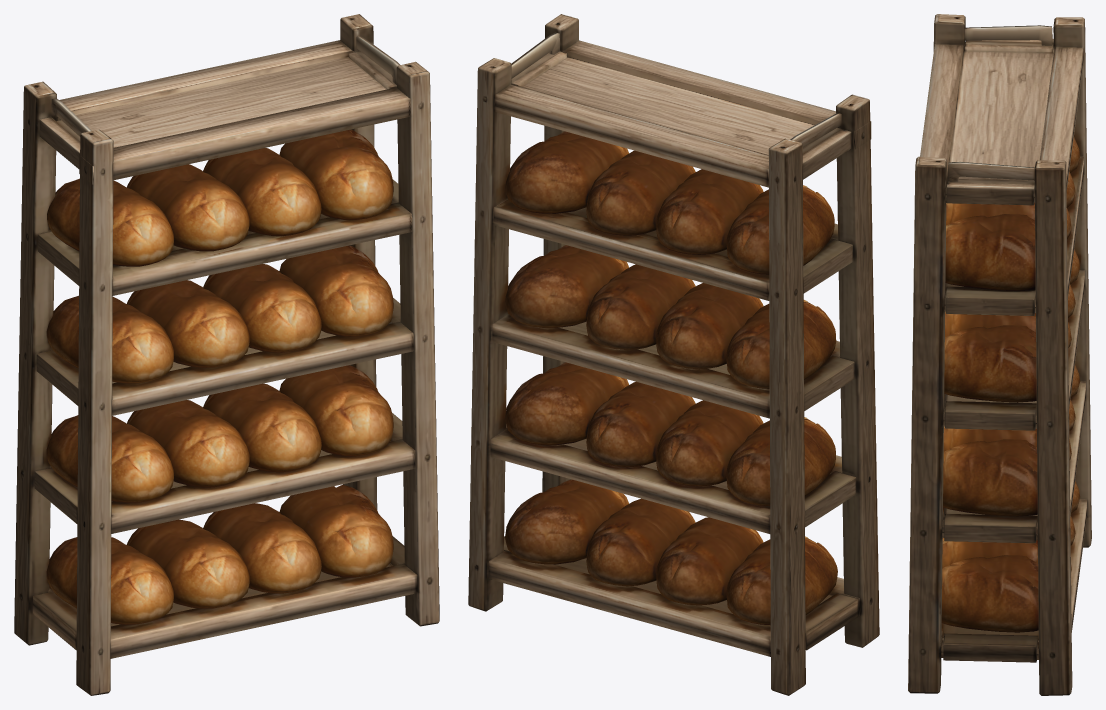
File: act1_kit_v1_bread_rack.glb
3 renders of one model, left to right at view 1: azimuth 30°, elevation 25°; view 2: azimuth 150°, elevation 25°; view 3: azimuth 270°, elevation 25°, orthographic. The views are drawn at different scales.
Parts seen in each view (by area): view 1: act1_kit_v1_bread_rack; view 2: act1_kit_v1_bread_rack; view 3: act1_kit_v1_bread_rack.
Boxes of the visible parts, box(x1,y1,x2,y2) form: act1_kit_v1_bread_rack: box(14, 14, 439, 695); act1_kit_v1_bread_rack: box(468, 14, 879, 695); act1_kit_v1_bread_rack: box(908, 14, 1091, 695).
Size of the model in its own units: 0.6596 by 1 by 0.317.
Materials: 1 (1 with a texture image).
